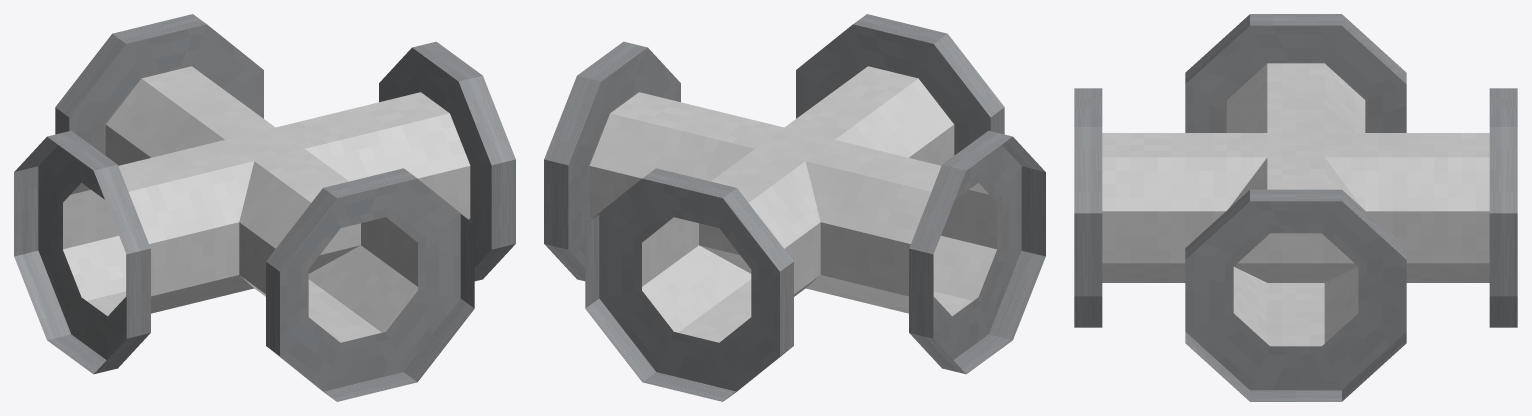
File: connection_60.obj
3 renders of one model, left to right at view 1: azimuth 30°, elevation 25°; view 2: azimuth 150°, elevation 25°; view 3: azimuth 270°, elevation 25°, orthographic.
Bounding box in the file's own units: 1 × 0.5 × 1.
